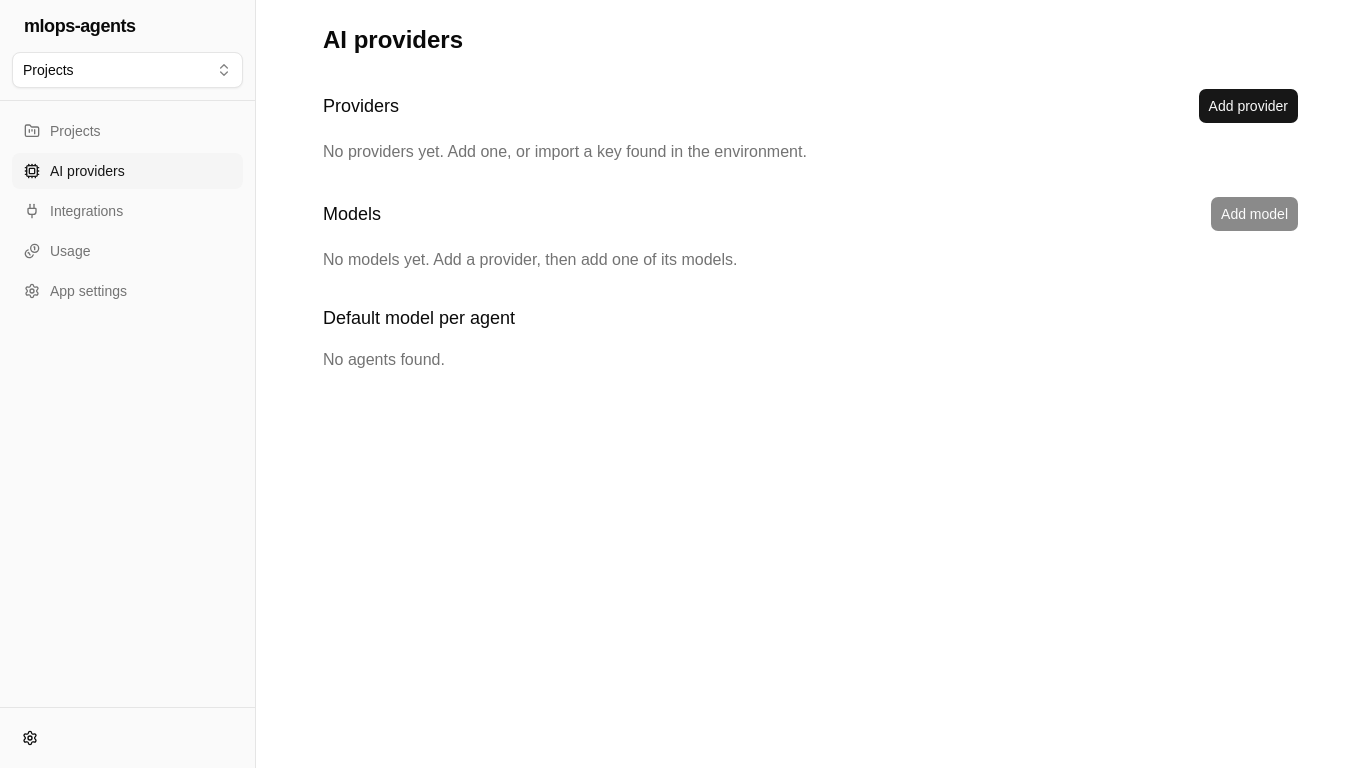
Test: AI providers page › adds a self-hosted provider without a key
Click the button "Add provider".
click(1248, 106)  # box [1198,88,1299,124]
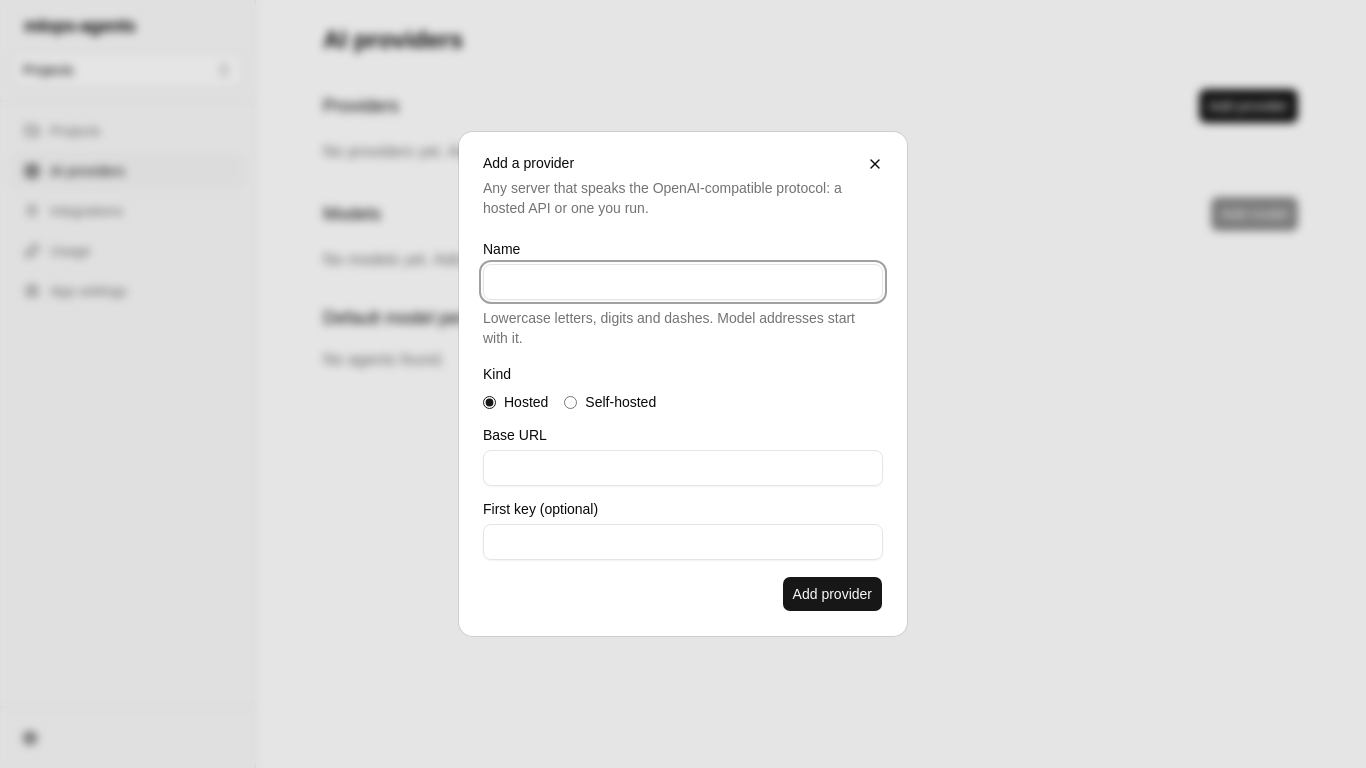
Type "ollama" into the field labelled "Name".
click(683, 282); type("ollama")  # box [483,264,883,300]
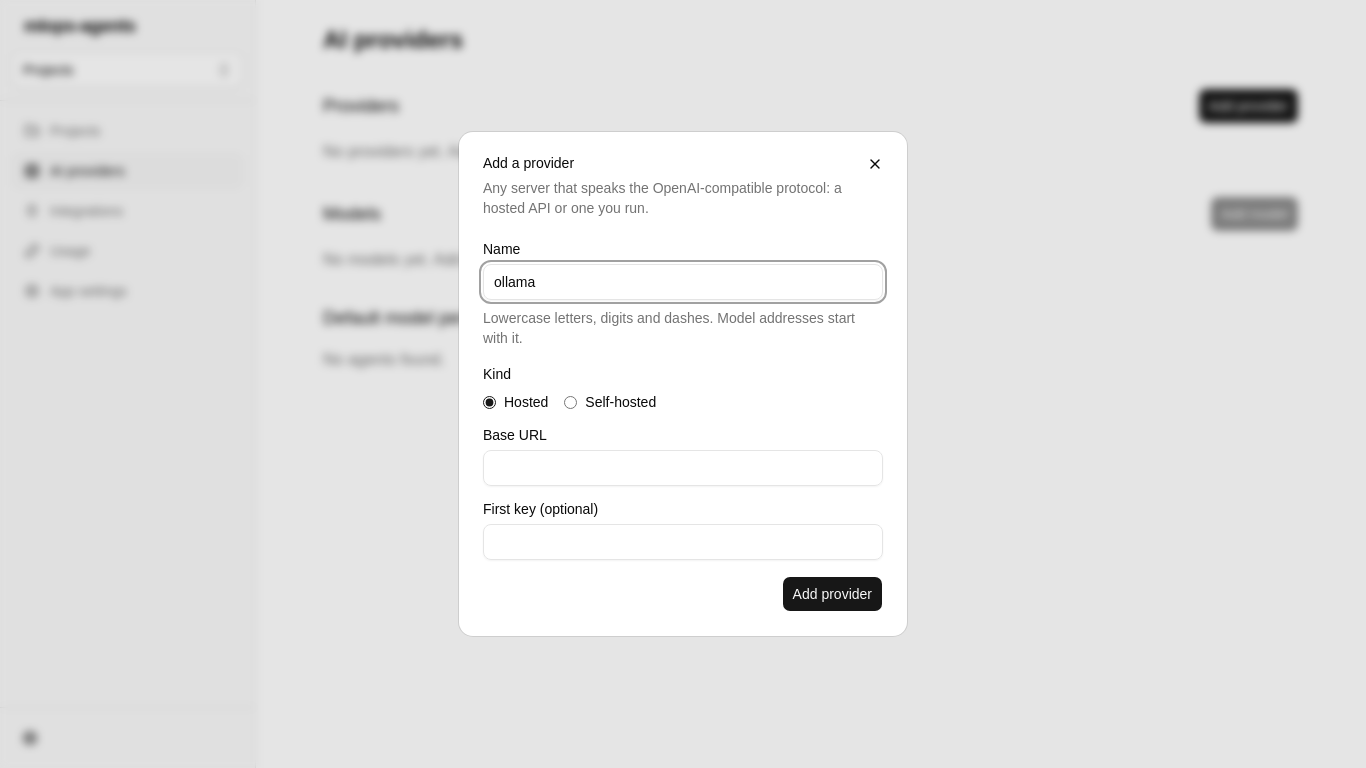
Click the radio button labelled "Self-hosted".
click(571, 402)  # box [564,396,577,408]
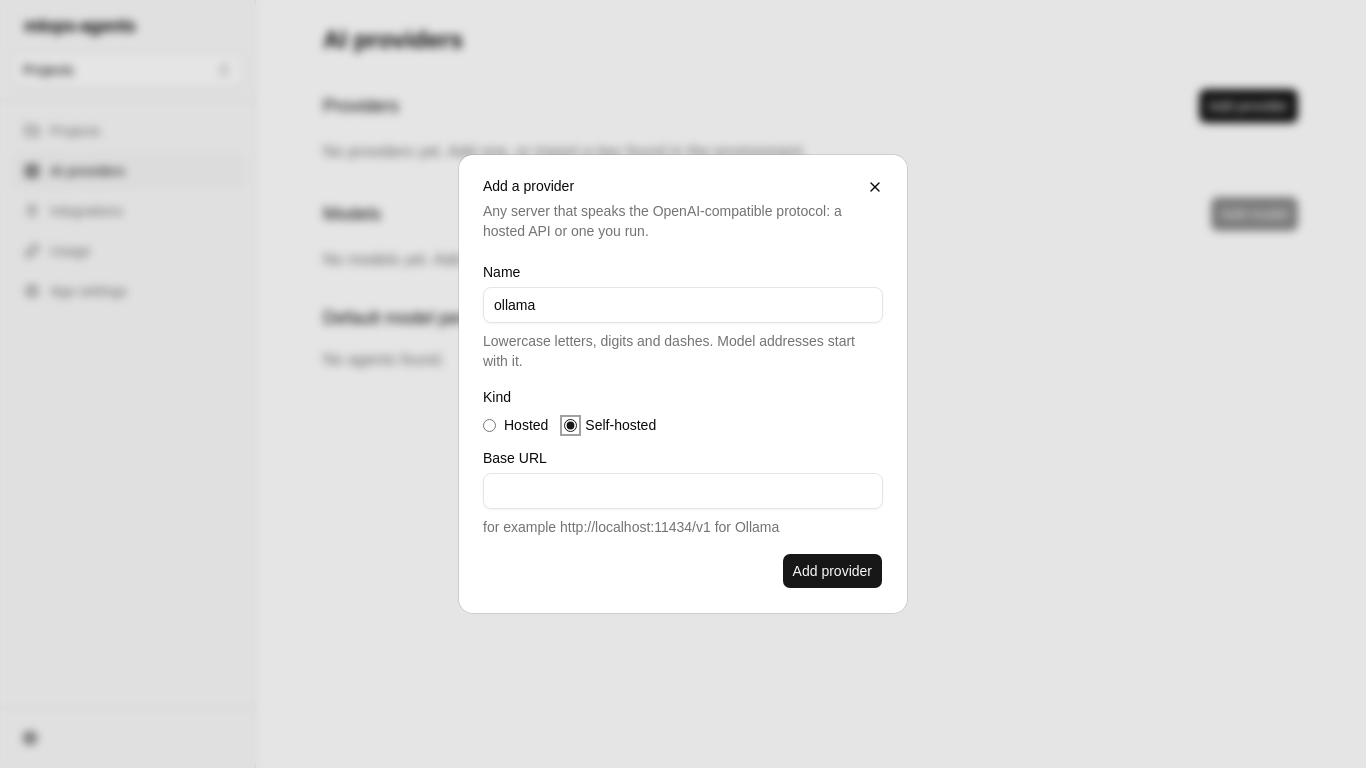
Expected: the text "for example http://localhost:11434/v1 for Ollama" is shown, [483,519,779,535]
Expected: the label labelled "First key" is gone
Type "http://localhost:11434/v1" into the field labelled "Base URL".
click(683, 491); type("http://localhost:11434/v1")  # box [483,473,883,509]
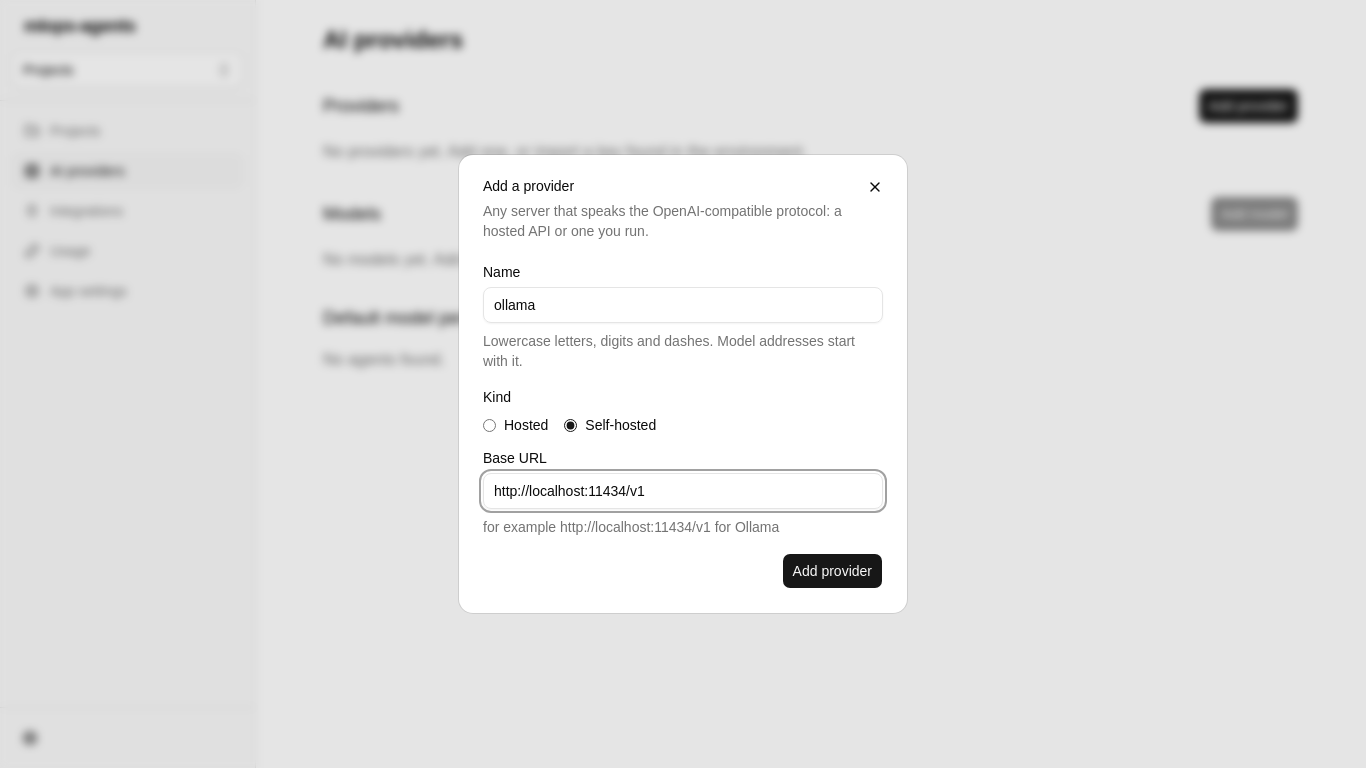
Click the button "Add provider".
click(832, 571)  # box [782,553,883,589]
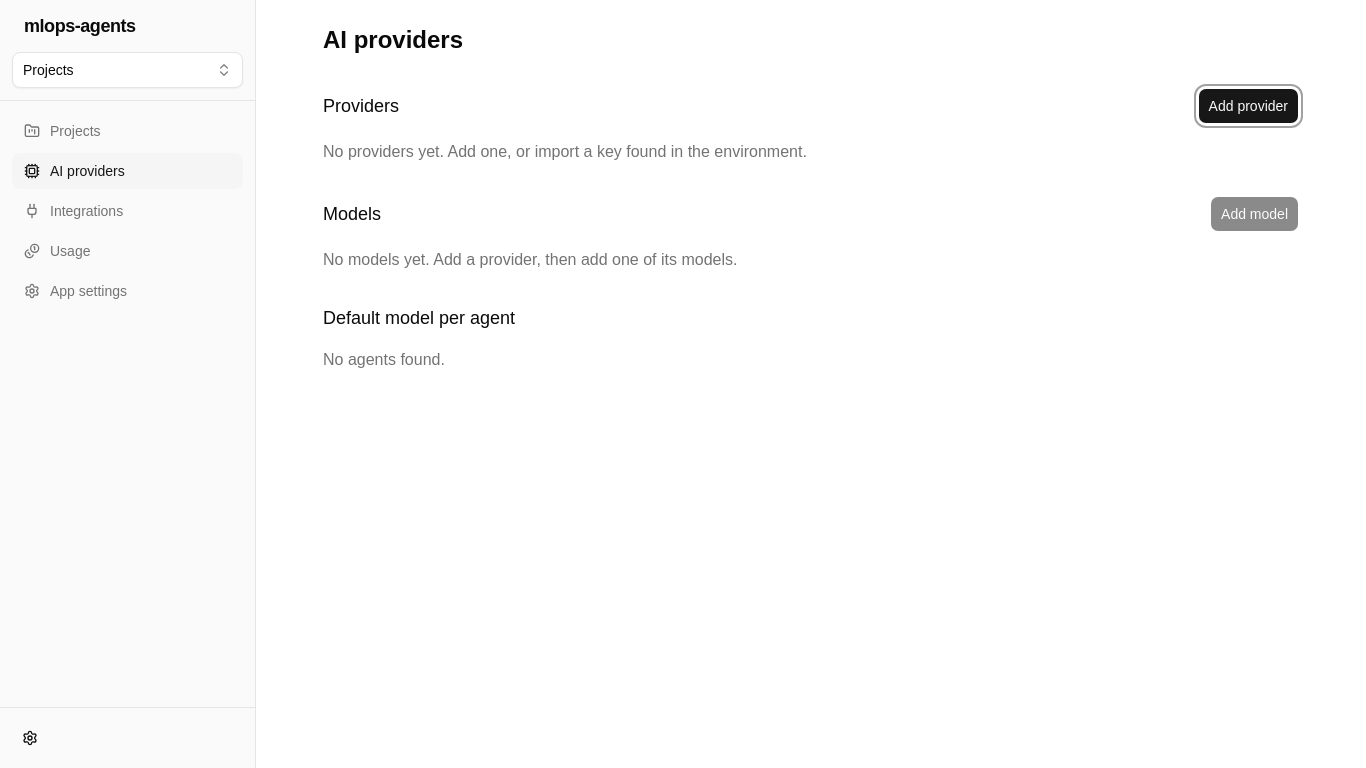
Expected: the dialog is gone
